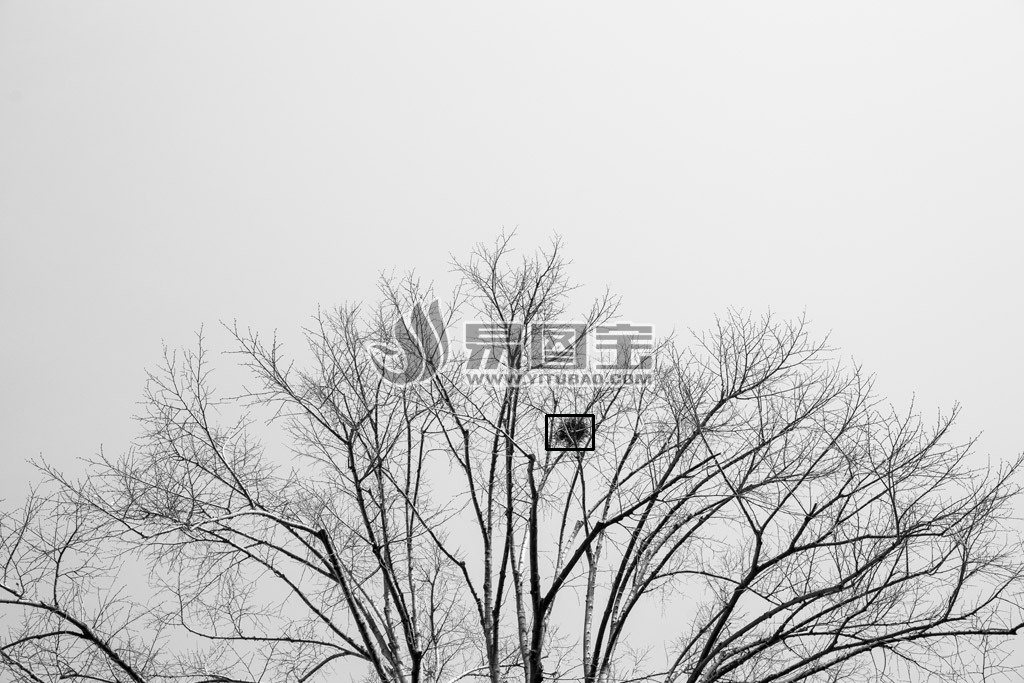bird-nest: (551, 416, 594, 453)
